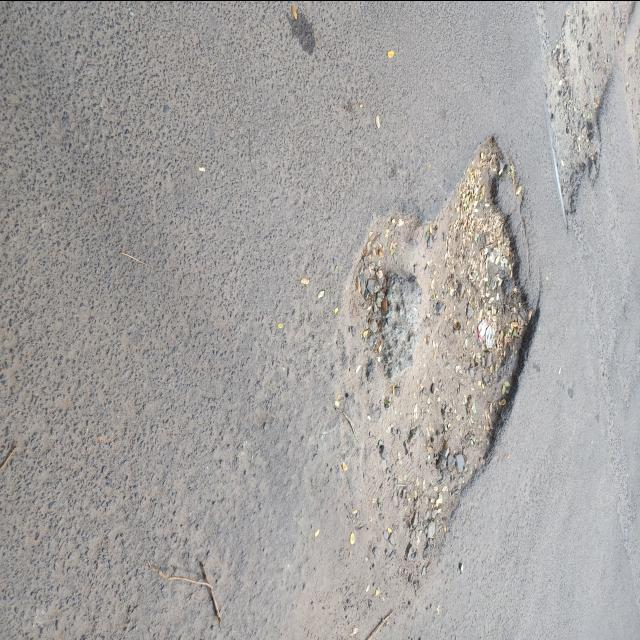potholes: (334, 128, 544, 606), (539, 0, 636, 222)
